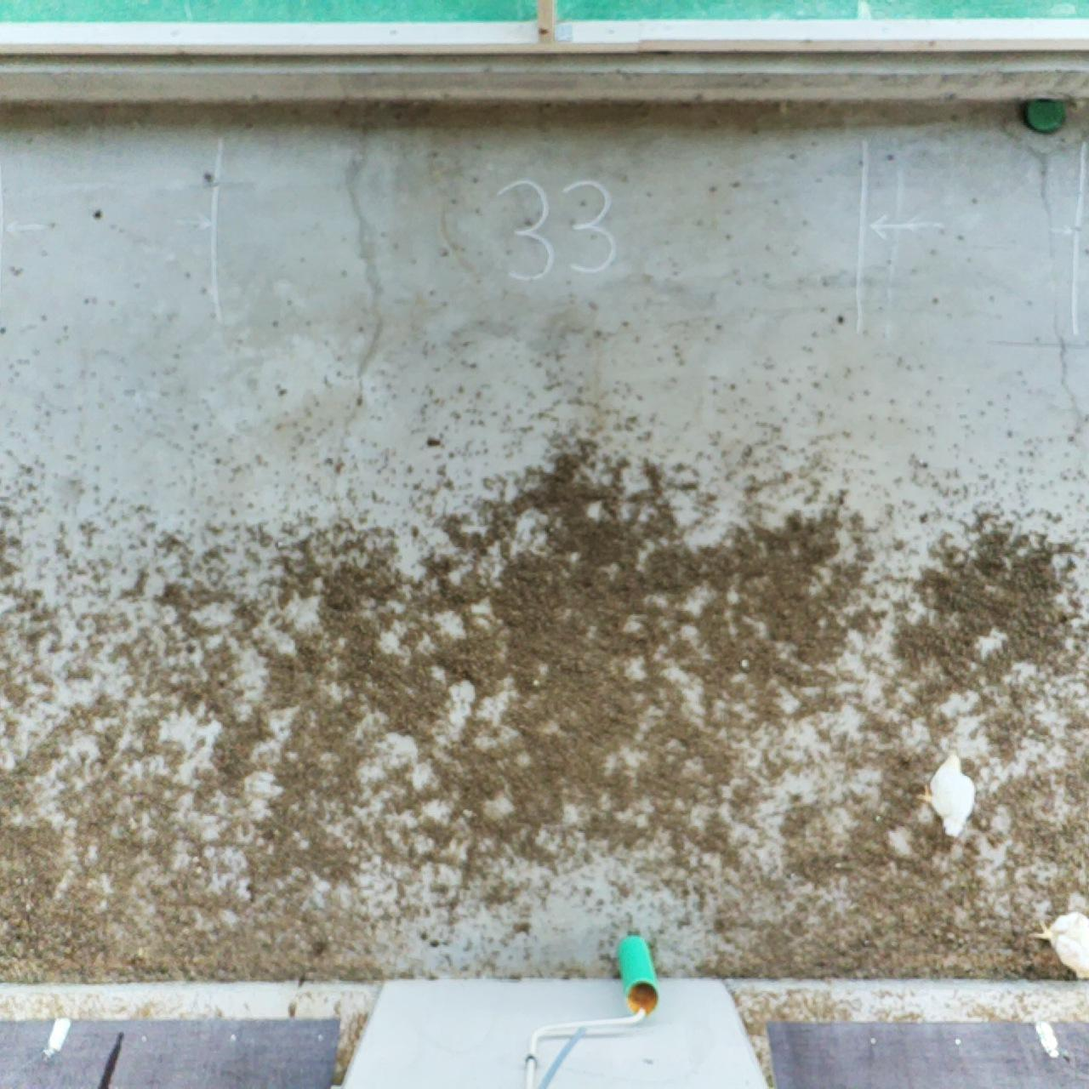chicken: (917, 747, 981, 838), (1033, 910, 1089, 980)
